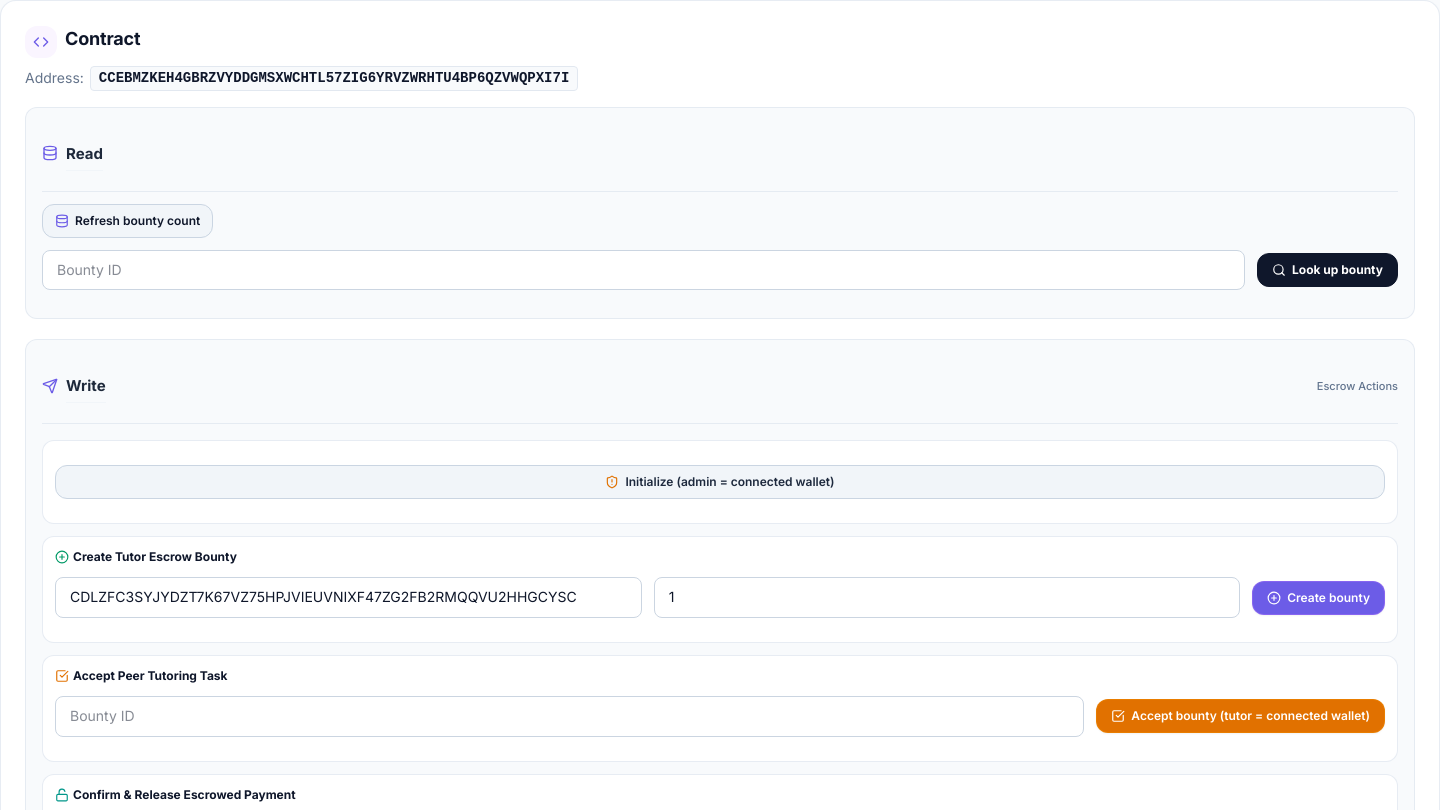
Test: ContractPanel › shows an Accepting... label while accept_bounty is in flight
The width and height of the screenshot is (1440, 810).
Type "3" into the field with placeholder "Bounty ID" below "Accept Peer Tutoring Task" at (570, 716), box [55, 696, 1084, 737]
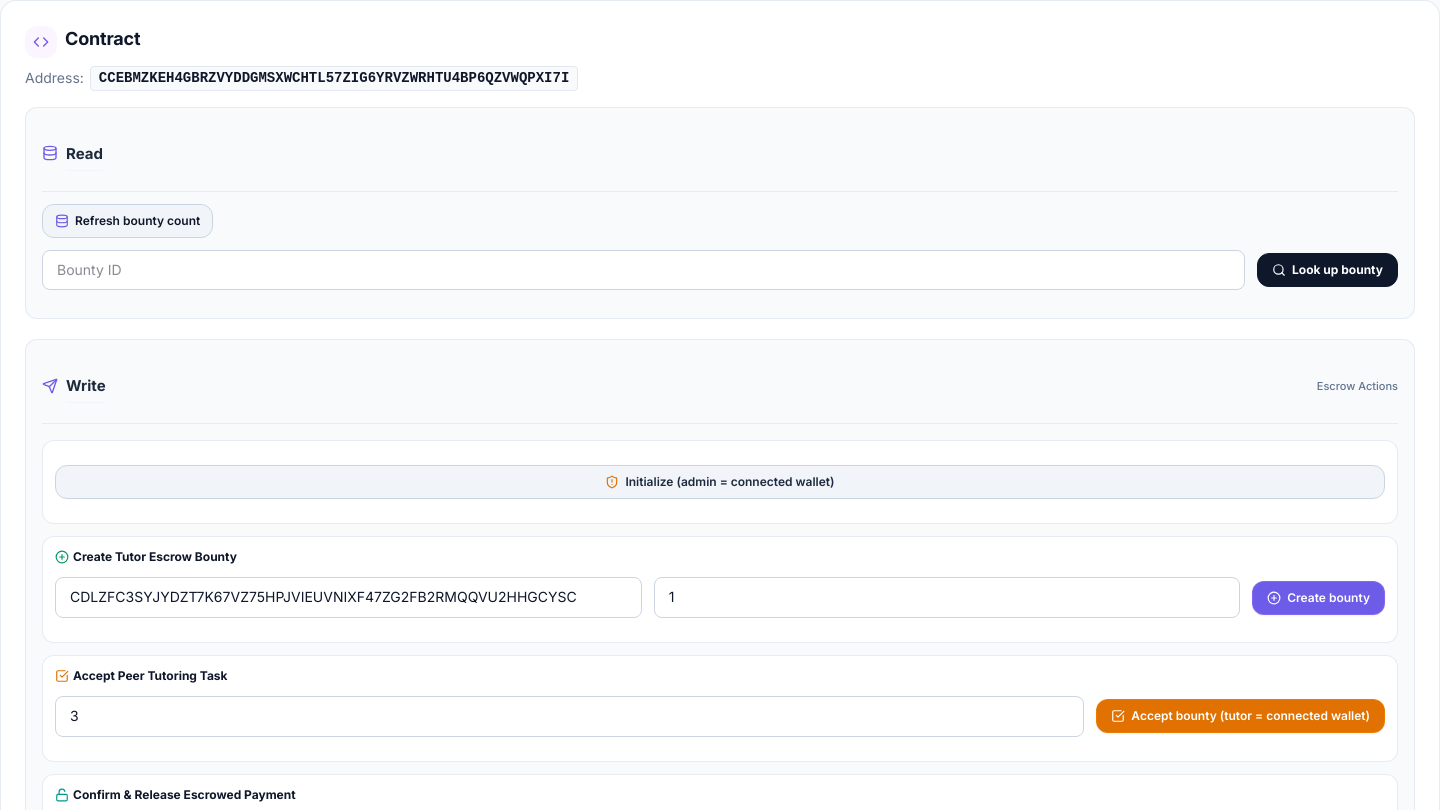
Click the button "Accept bounty (tutor = connected wallet)" at (1241, 716), box [1096, 699, 1385, 733]
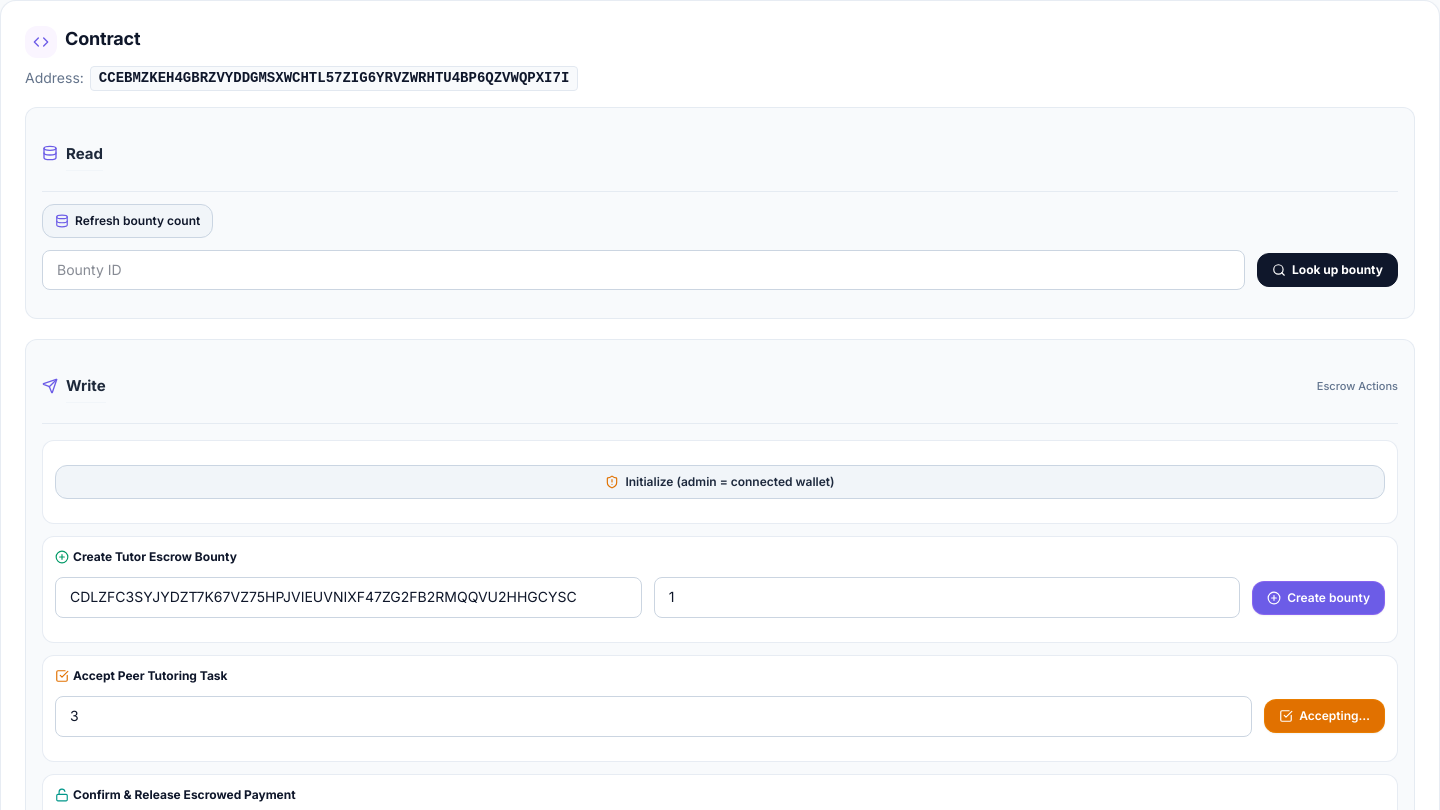
Now the button "Accepting…" is shown, box [1264, 699, 1385, 733]
